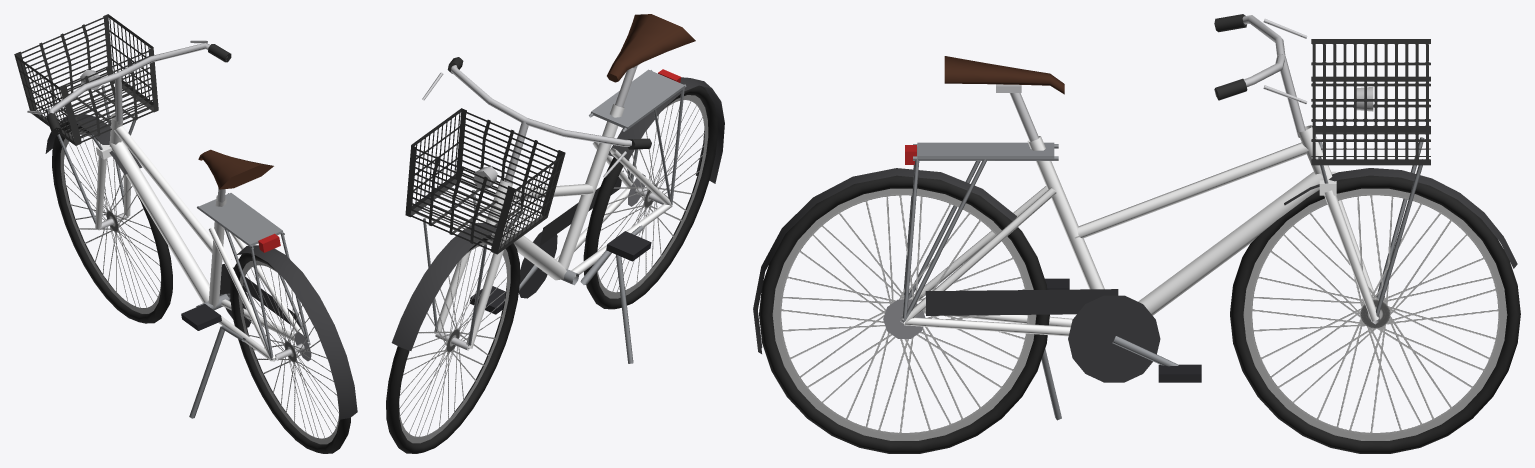
The model's file is city_lean.glb.
The picture shows the model from 3 angles, left to right: view 1: azimuth 30°, elevation 25°; view 2: azimuth 150°, elevation 25°; view 3: azimuth 270°, elevation 25°; orthographic projection. The views are drawn at different scales.
Visible parts, largest first — view 1: bike; view 2: bike; view 3: bike.
Part boxes in pixels (box(x1,y1,x2,y2)): bike: box(14, 14, 357, 453); bike: box(386, 14, 724, 453); bike: box(753, 14, 1520, 453).
Size of the model in its own units: 0.6403 by 1.03 by 1.79.
1 material, 1 textured.
